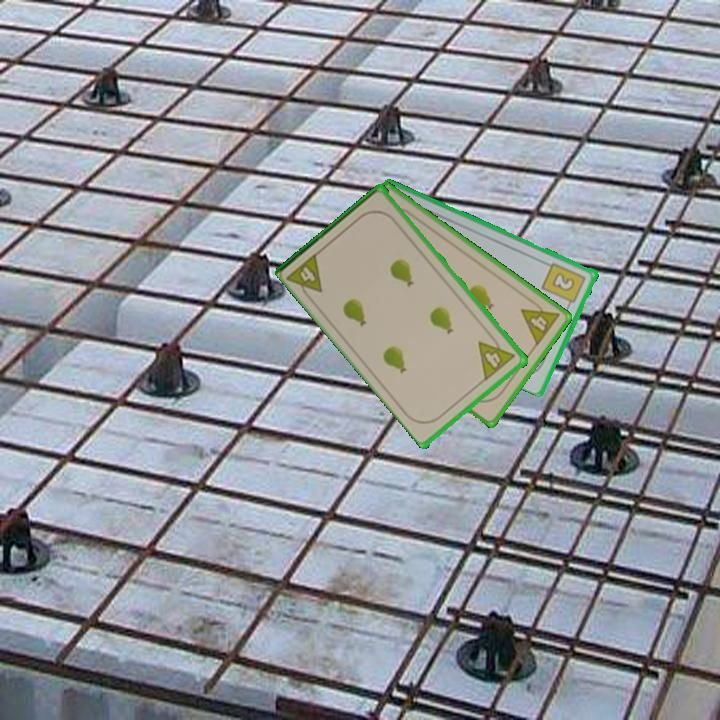2b: (539, 259, 589, 311)
4p: (517, 294, 562, 349), (475, 330, 519, 383), (284, 249, 326, 304)
